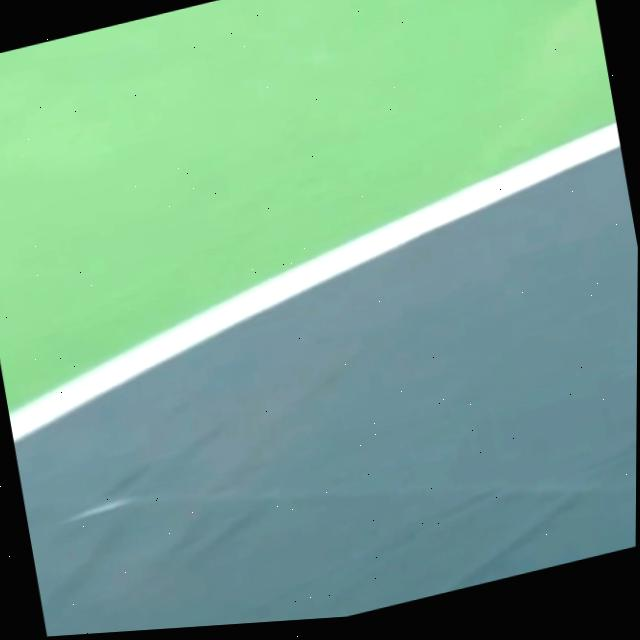right: (9, 122, 620, 441)
